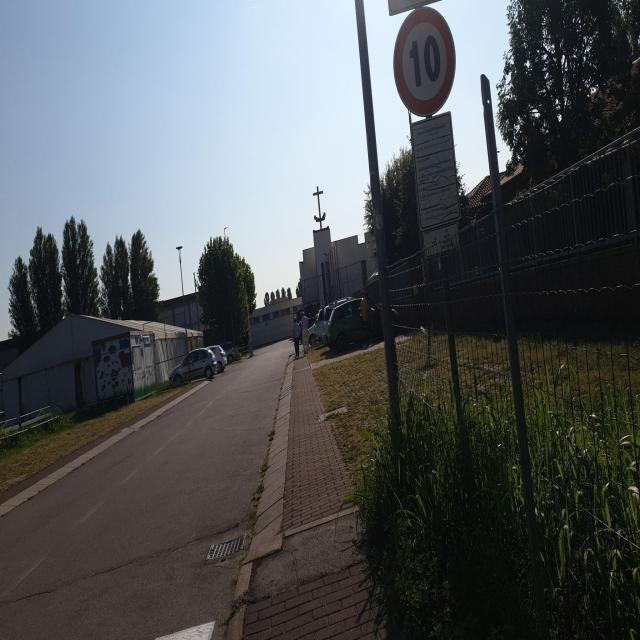car: (328, 301, 374, 351), (169, 346, 217, 386), (308, 313, 332, 346), (206, 344, 227, 370), (223, 342, 235, 362)
